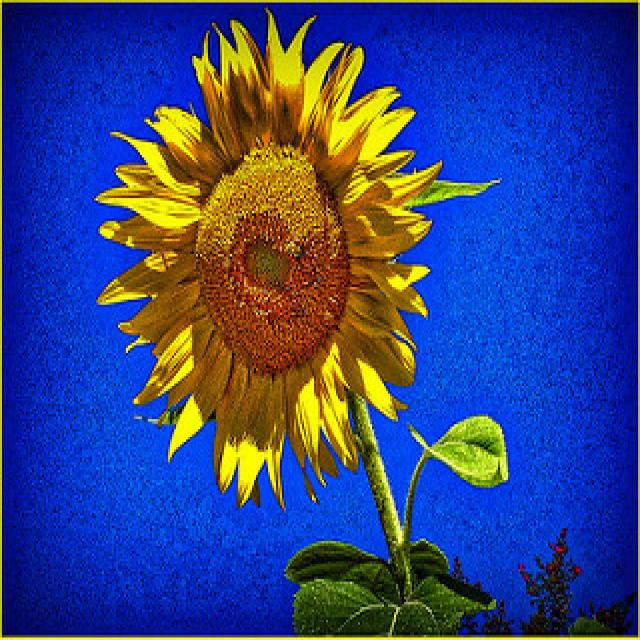sunflower: (94, 5, 448, 511)
